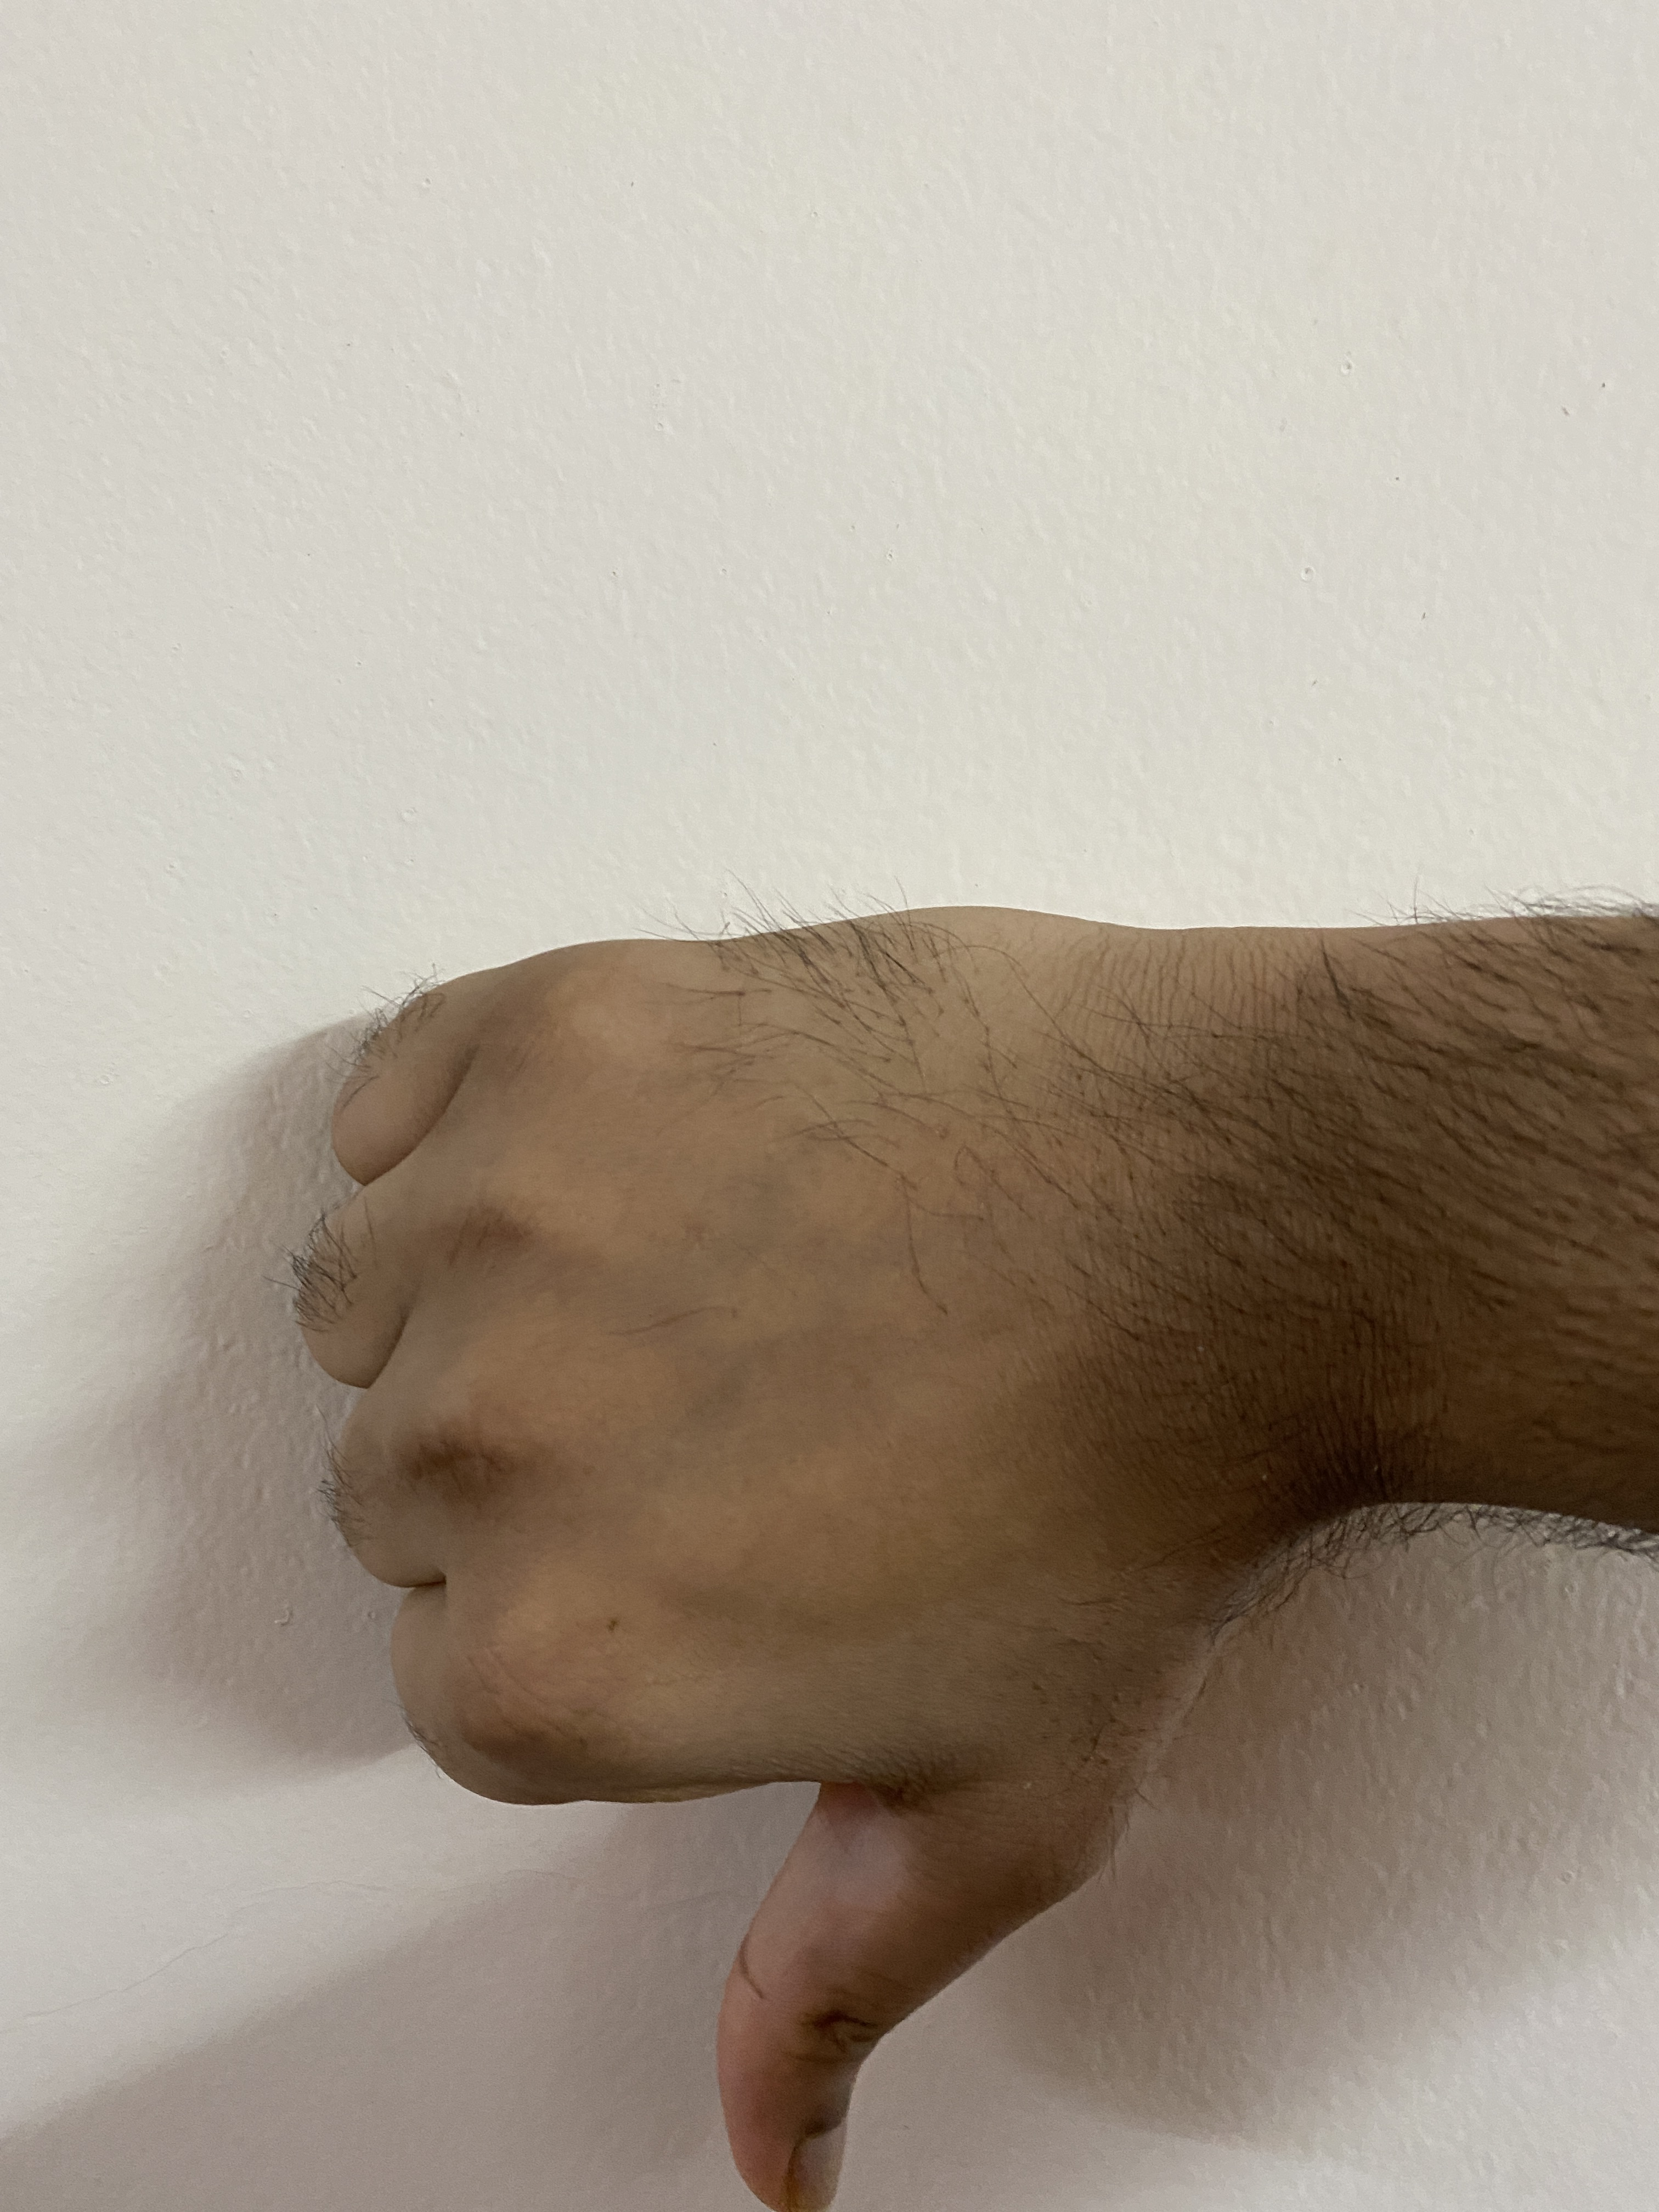down: (162, 836, 1659, 2212)
